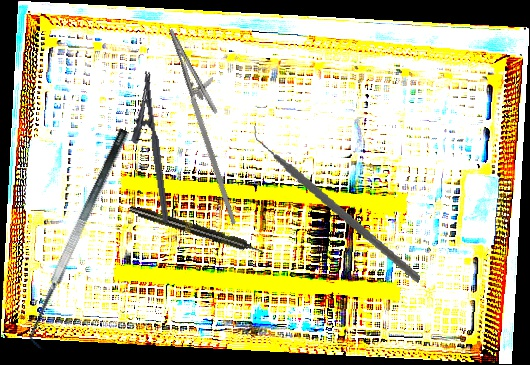Chopper: (234, 117, 441, 283)
Handpiece: (128, 203, 266, 258)
Needle Holder: (145, 21, 274, 226), (123, 70, 170, 226)
Spatula Surgical: (16, 127, 147, 351)
